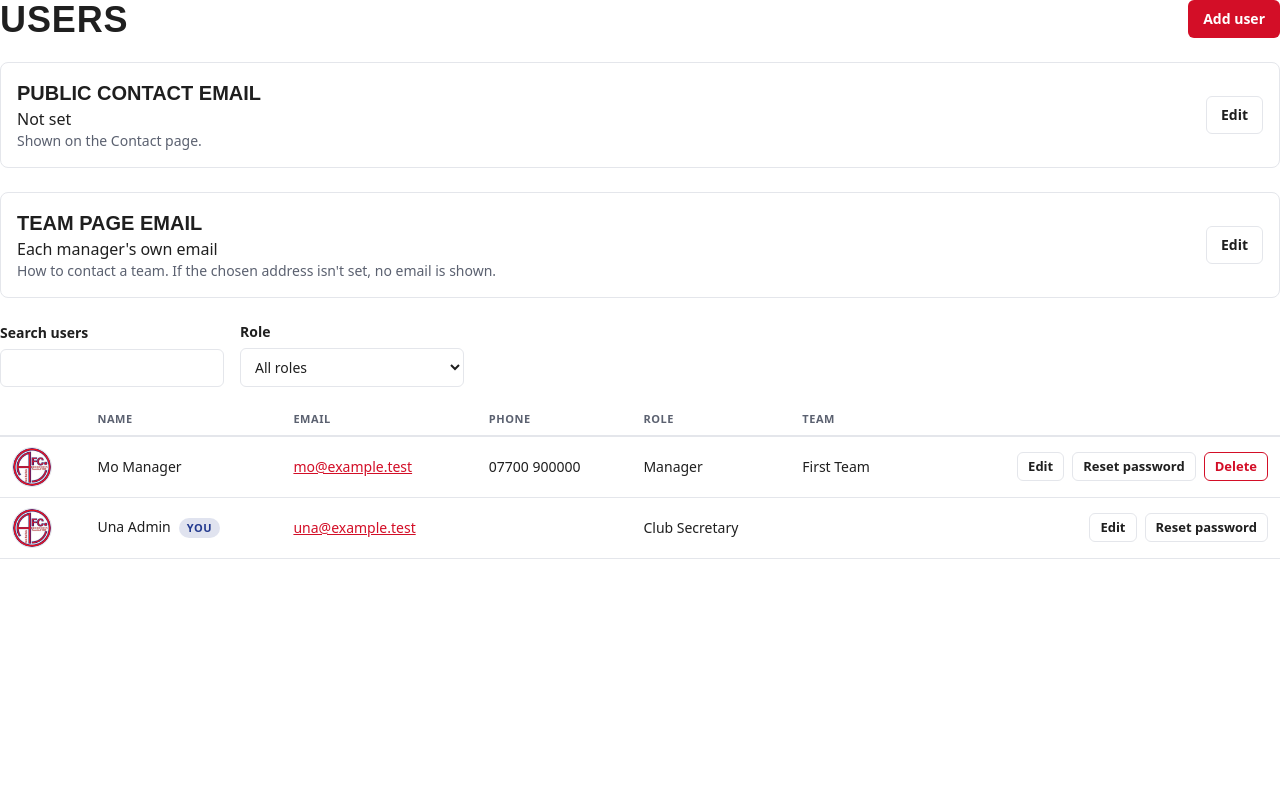
it: Public contact email › shows a server error under the field
Check: the text "Not set" is shown, box x1=17 y1=108 x2=71 y2=130
Click the button with aria-label "Edit public contact email".
click(1234, 115)  # box x1=1206 y1=96 x2=1263 y2=134
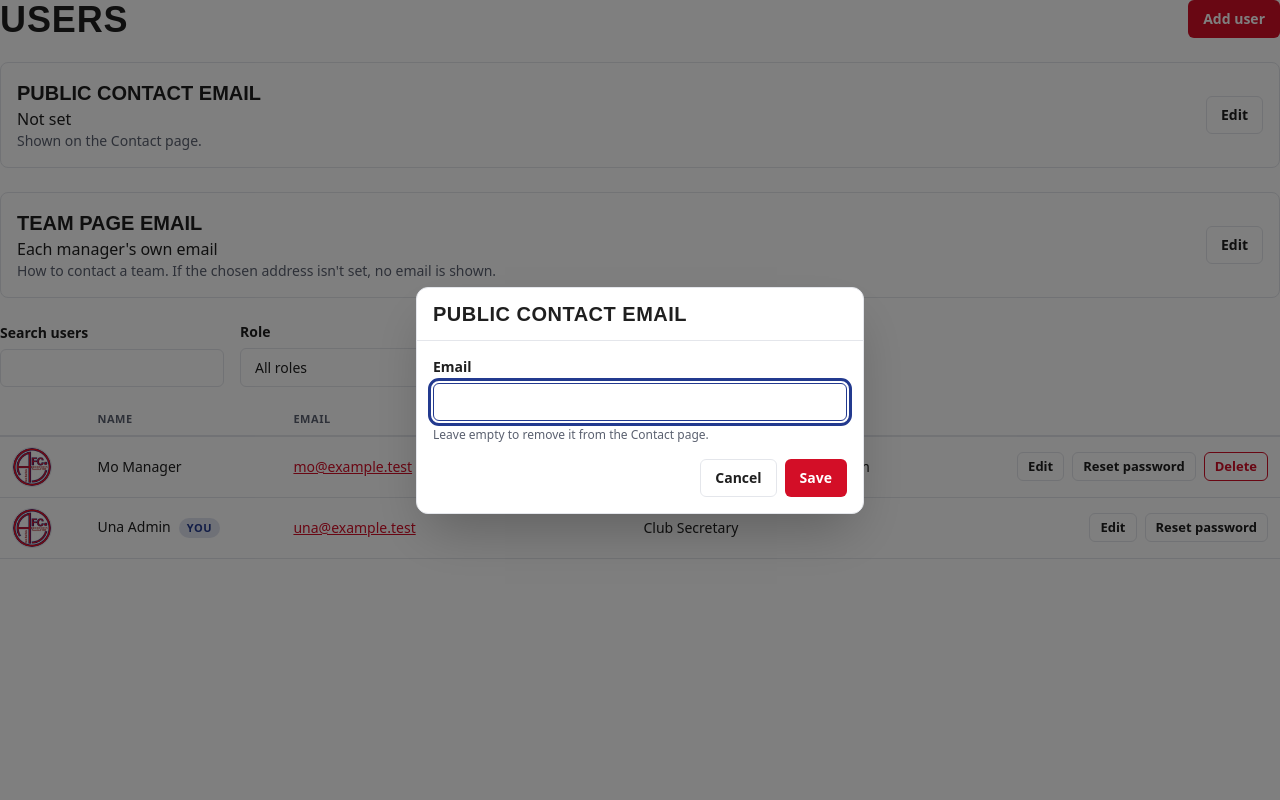
Type "nope" into the field labelled "Email".
click(640, 402); type("nope")  # box x1=433 y1=382 x2=847 y2=420
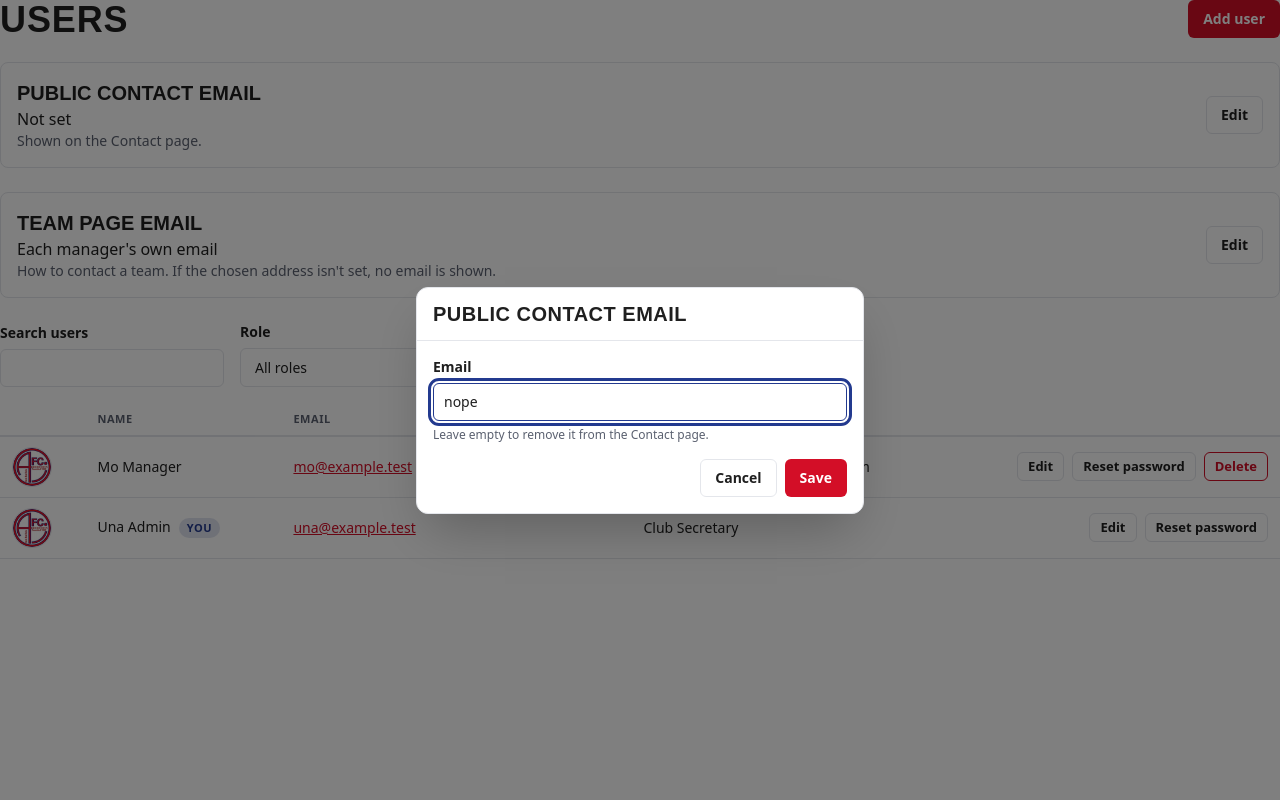
Click the button "Save".
click(816, 478)  # box x1=785 y1=458 x2=847 y2=496
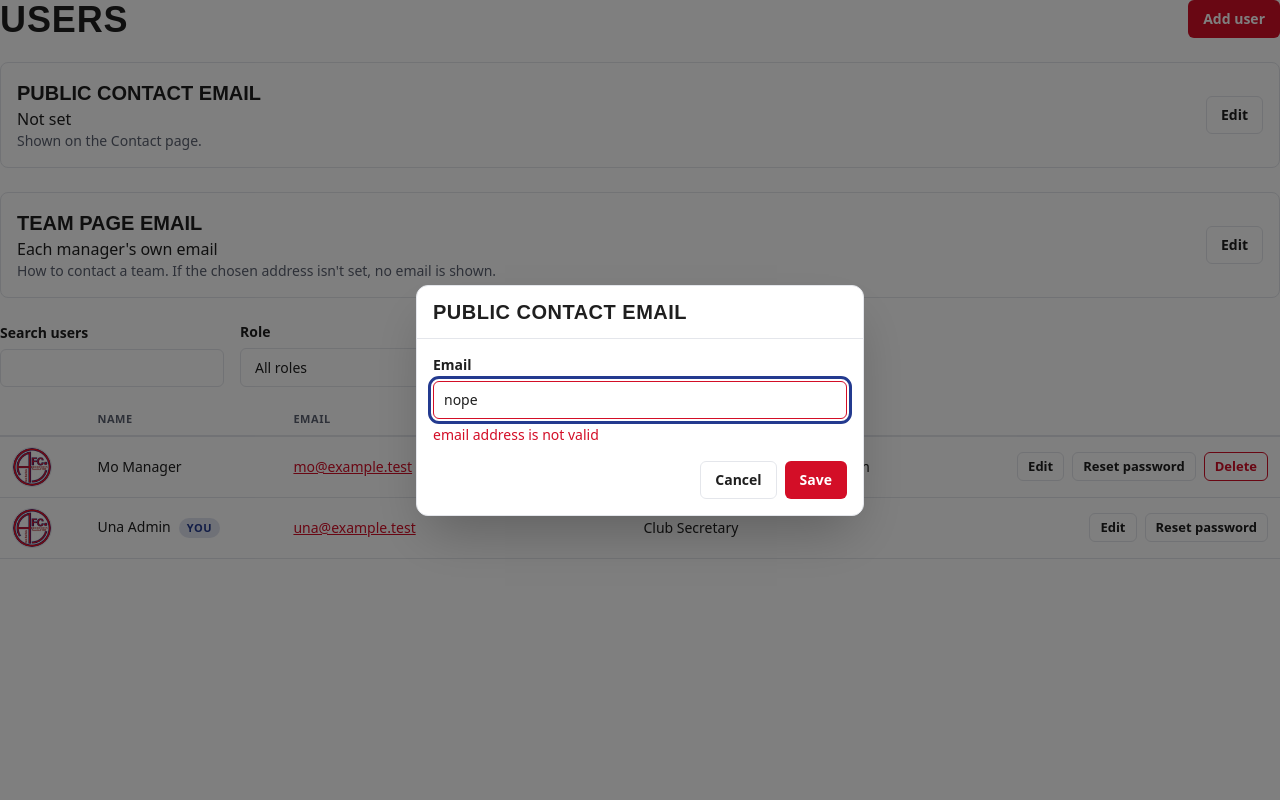
Check: the text "email address is not valid" is shown, box x1=433 y1=424 x2=599 y2=444
